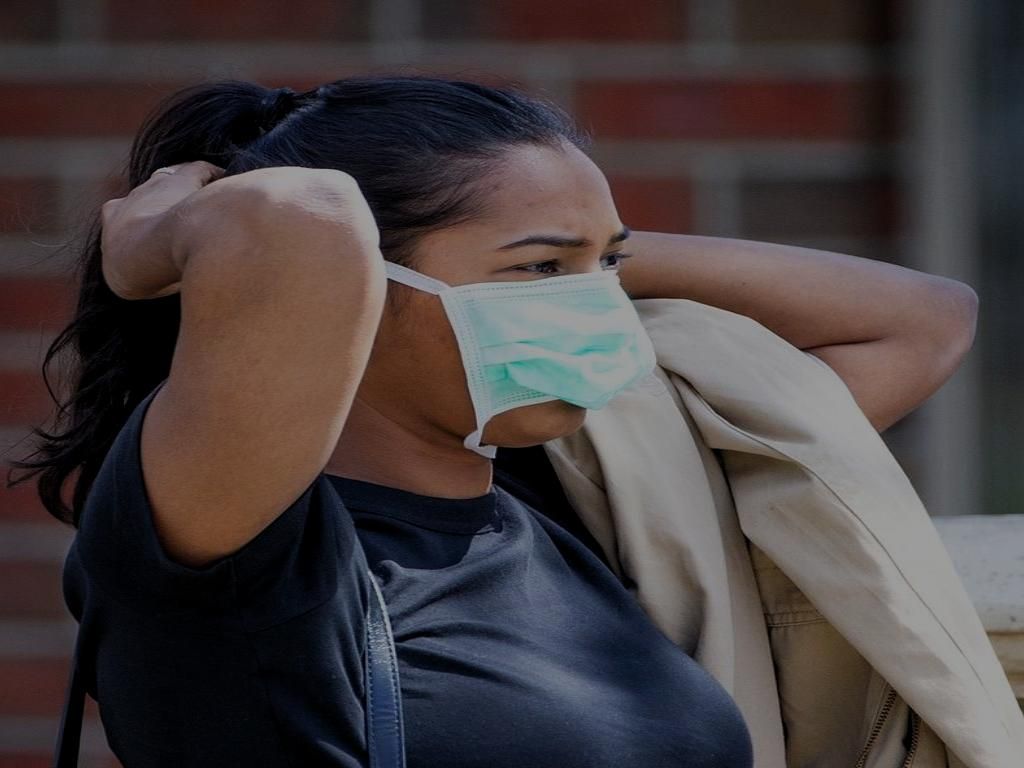mask_weared_incorrect: (227, 75, 662, 465)
